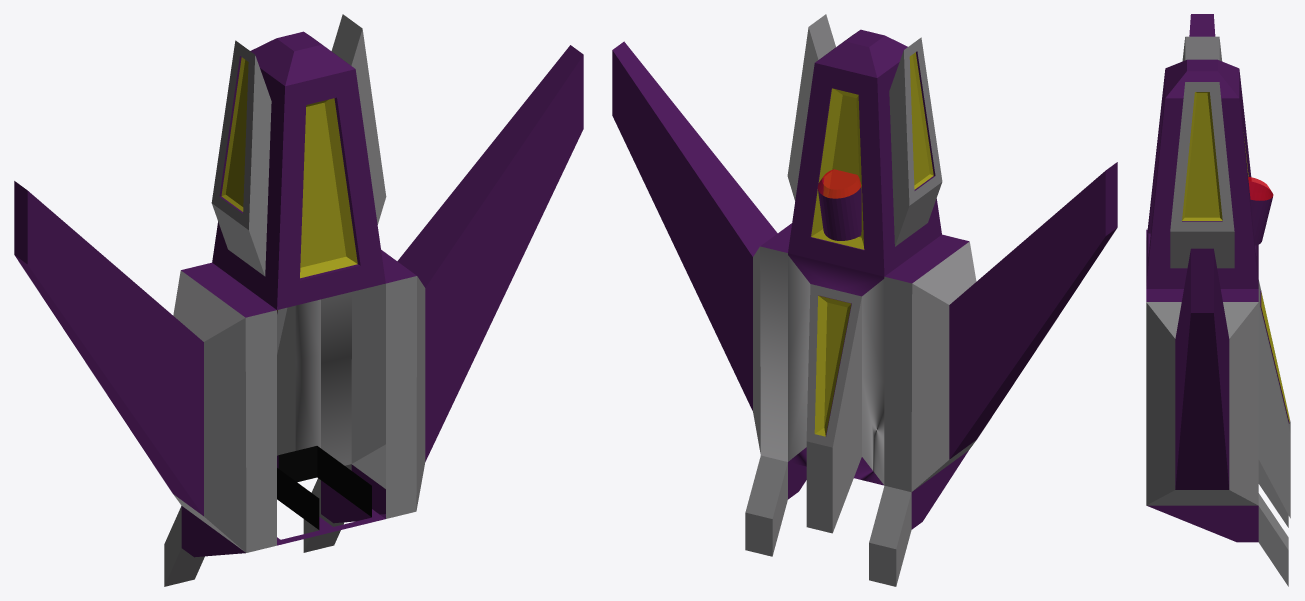
File: Flyer2.fbx
3 renders of one model, left to right at view 1: azimuth 30°, elevation 25°; view 2: azimuth 150°, elevation 25°; view 3: azimuth 270°, elevation 25°, orthographic. The views are drawn at different scales.
Parts seen in each view (by area): view 1: Cube.001; view 2: Cube.001; view 3: Cube.001.
Part boxes in pixels (bbox=[...]): Cube.001: bbox=[14, 14, 583, 586]; Cube.001: bbox=[612, 14, 1117, 586]; Cube.001: bbox=[1146, 14, 1290, 586].
Size of the model in its own units: 989 by 966 by 257.
